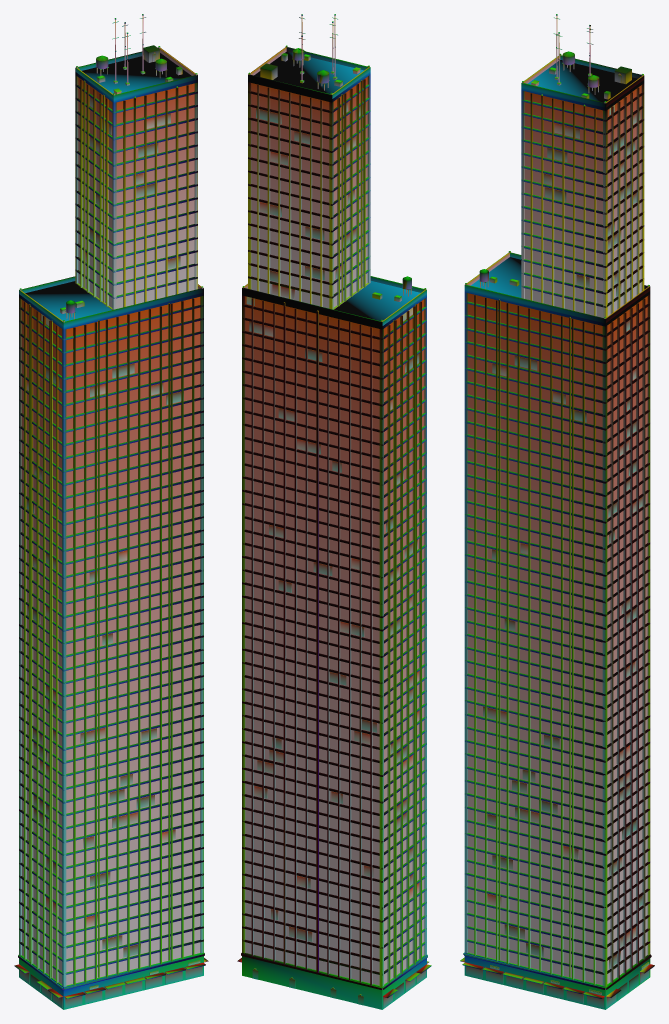
Rendered from Tower_Slab_V11.fbx.
The picture shows the model from 3 angles, left to right: view 1: azimuth 30°, elevation 25°; view 2: azimuth 150°, elevation 25°; view 3: azimuth 330°, elevation 25°; orthographic projection.
Parts seen in each view (by area): view 1: Tower_Slab_V11_LOD0; view 2: Tower_Slab_V11_LOD0; view 3: Tower_Slab_V11_LOD0.
Boxes of the visible parts, <box> form: Tower_Slab_V11_LOD0: <box>14,14,208,1009</box>; Tower_Slab_V11_LOD0: <box>237,14,431,1009</box>; Tower_Slab_V11_LOD0: <box>460,14,654,1009</box>.
Size of what is drawn, in the model's own units: 42.8 by 261 by 23.83.
